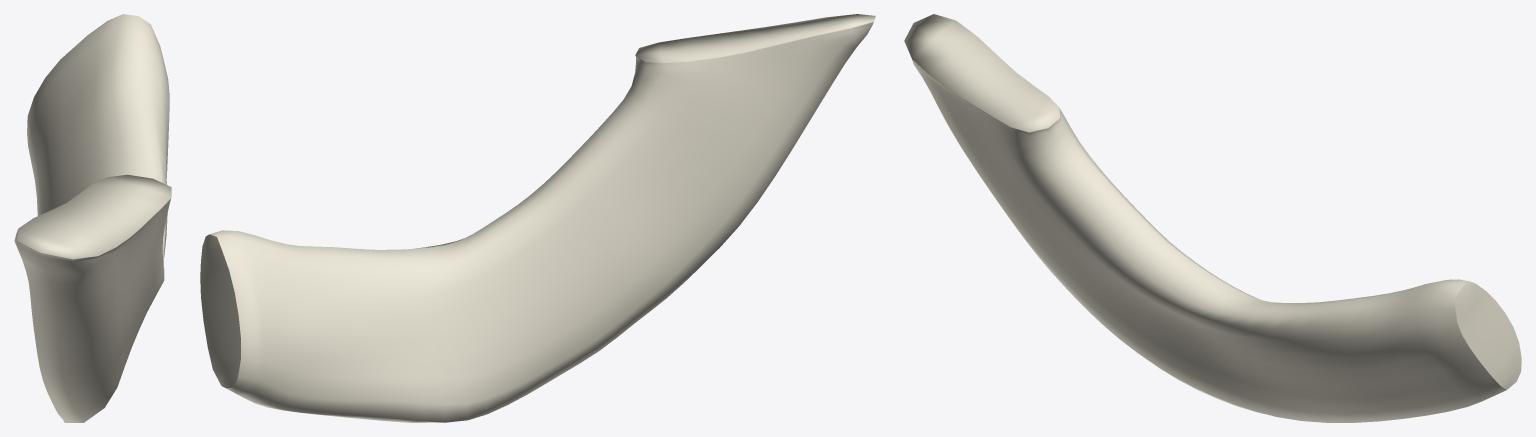
3 renders of one model, left to right at view 1: azimuth 30°, elevation 25°; view 2: azimuth 150°, elevation 25°; view 3: azimuth 270°, elevation 25°, orthographic. The views are drawn at different scales.
Parts seen in each view (by area): view 1: ZA_1c378e1d6da12144; view 2: ZA_1c378e1d6da12144; view 3: ZA_1c378e1d6da12144.
Part boxes in pixels (x1=…): ZA_1c378e1d6da12144: x1=14, y1=14, x2=171, y2=422; ZA_1c378e1d6da12144: x1=200, y1=14, x2=875, y2=422; ZA_1c378e1d6da12144: x1=904, y1=14, x2=1521, y2=422.
Bounding box in the file's own units: 0.0471 × 0.0359 × 0.0674.
